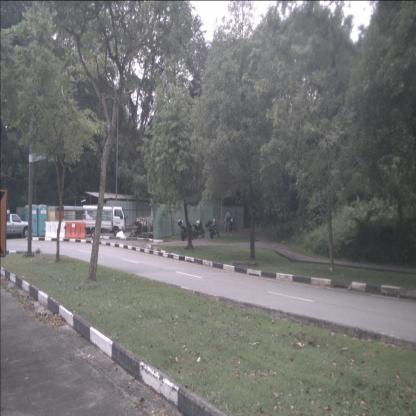human-pedestrian-adult: (224, 210, 230, 232)
movable_object-barrier: (45, 221, 66, 238), (65, 221, 86, 238)
vehicle-motorcycle: (177, 219, 194, 241), (205, 216, 220, 238), (192, 220, 204, 239), (228, 217, 236, 232)
vehicle-truck: (82, 205, 126, 237), (55, 206, 95, 235), (0, 213, 34, 239)
